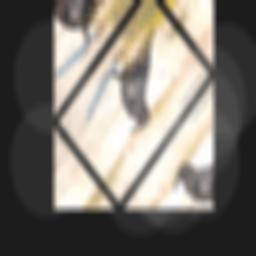Crow: (93, 8, 190, 142)
